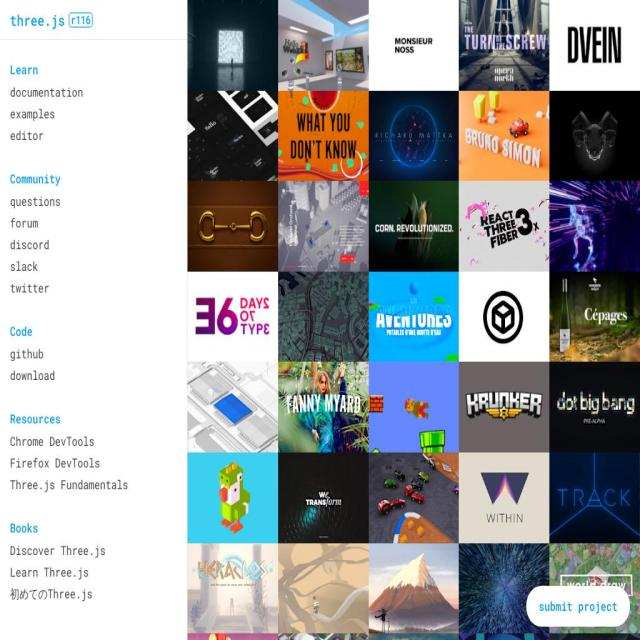button: (277, 90, 368, 182), (368, 90, 459, 182), (459, 90, 550, 182), (549, 90, 640, 182), (277, 180, 368, 272), (368, 180, 459, 272), (459, 180, 550, 272), (549, 180, 640, 272), (277, 0, 368, 91), (368, 0, 459, 91), (459, 0, 550, 91), (549, 0, 640, 91), (277, 271, 368, 362), (368, 271, 459, 362), (459, 271, 550, 362), (549, 271, 640, 362), (277, 452, 368, 543), (368, 452, 459, 543), (459, 452, 550, 543), (549, 452, 640, 543), (277, 543, 368, 634), (368, 543, 459, 634), (459, 543, 550, 634), (549, 543, 640, 634), (188, 90, 278, 182), (188, 180, 278, 272), (188, 0, 278, 91), (188, 271, 278, 362), (277, 362, 368, 452), (368, 362, 459, 452), (459, 362, 550, 452), (549, 362, 640, 452), (188, 452, 278, 543), (188, 543, 278, 634), (188, 362, 278, 452), (526, 586, 630, 626), (277, 633, 368, 640), (368, 633, 459, 640), (459, 633, 550, 640), (549, 633, 640, 640), (188, 633, 278, 640)
heading: (10, 58, 177, 80), (10, 320, 177, 342), (10, 168, 177, 189), (10, 408, 177, 429), (10, 517, 177, 538), (10, 9, 65, 30), (68, 12, 92, 28)
image: (277, 90, 368, 182), (368, 90, 459, 182), (459, 90, 550, 182), (549, 90, 640, 182), (277, 180, 368, 272), (368, 180, 459, 272), (459, 180, 550, 272), (549, 180, 640, 272), (277, 0, 368, 91), (368, 0, 459, 91), (459, 0, 550, 91), (549, 0, 640, 91), (277, 271, 368, 362), (368, 271, 459, 362), (459, 271, 550, 362), (549, 271, 640, 362), (277, 452, 368, 543), (368, 452, 459, 543), (459, 452, 550, 543), (549, 452, 640, 543), (277, 543, 368, 634), (368, 543, 459, 634), (459, 543, 550, 634), (549, 543, 640, 634), (188, 90, 278, 182), (188, 180, 278, 272), (188, 0, 278, 91), (188, 271, 278, 362), (277, 362, 368, 452), (368, 362, 459, 452), (459, 362, 550, 452), (549, 362, 640, 452), (188, 452, 278, 543), (188, 543, 278, 634), (188, 362, 278, 452), (277, 633, 368, 640), (368, 633, 459, 640), (459, 633, 550, 640), (549, 633, 640, 640), (188, 633, 278, 640)
link: (10, 476, 128, 492), (10, 542, 106, 558), (10, 454, 100, 471), (10, 585, 92, 602), (10, 433, 94, 449), (10, 563, 89, 580), (10, 83, 83, 100), (10, 193, 61, 209), (10, 105, 55, 122), (10, 367, 55, 383), (10, 279, 49, 296), (10, 236, 49, 252), (10, 345, 44, 362), (10, 127, 44, 143), (10, 214, 38, 231), (10, 258, 38, 274)
